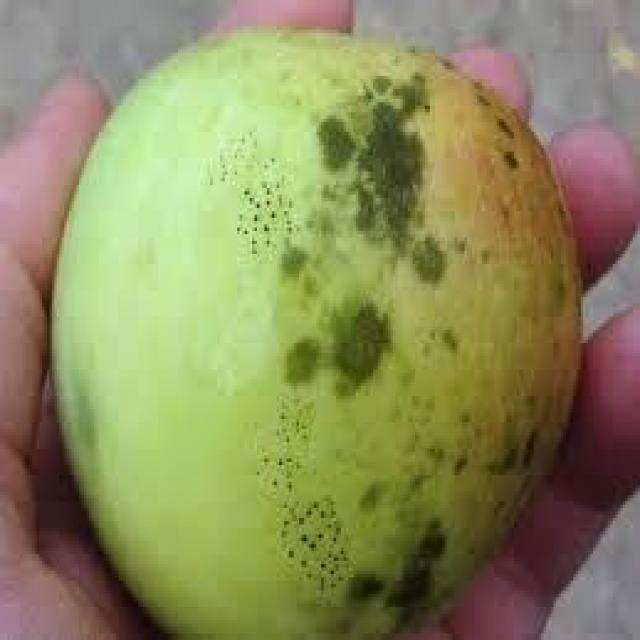Rotten: (42, 34, 582, 626)
